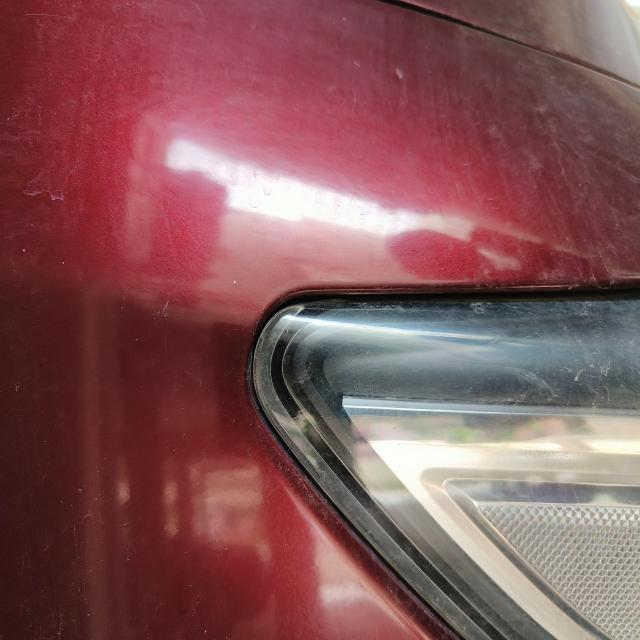scratch: (156, 300, 179, 366)
